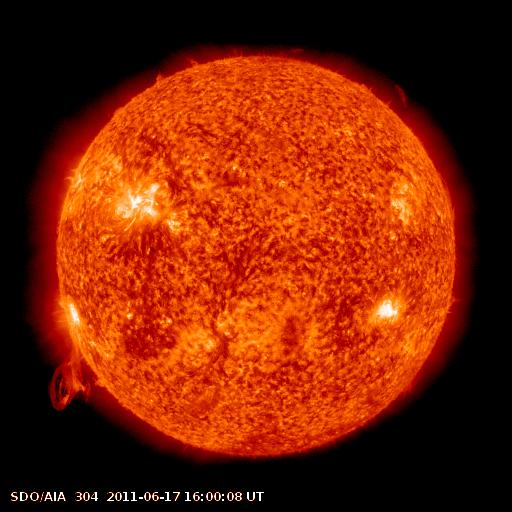prominence: (41, 329, 116, 415), (146, 49, 206, 85), (377, 75, 415, 120), (282, 40, 315, 63)
